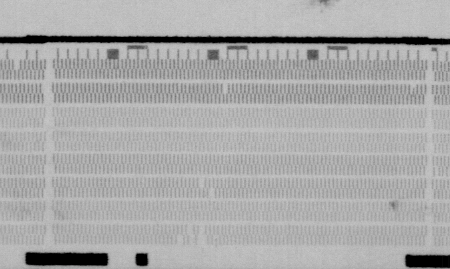Broken hole: (183, 223, 210, 244), (11, 59, 22, 72), (220, 83, 231, 96), (207, 187, 217, 201), (196, 175, 207, 187), (176, 233, 185, 245)
Oblique printing: (408, 83, 419, 98)
